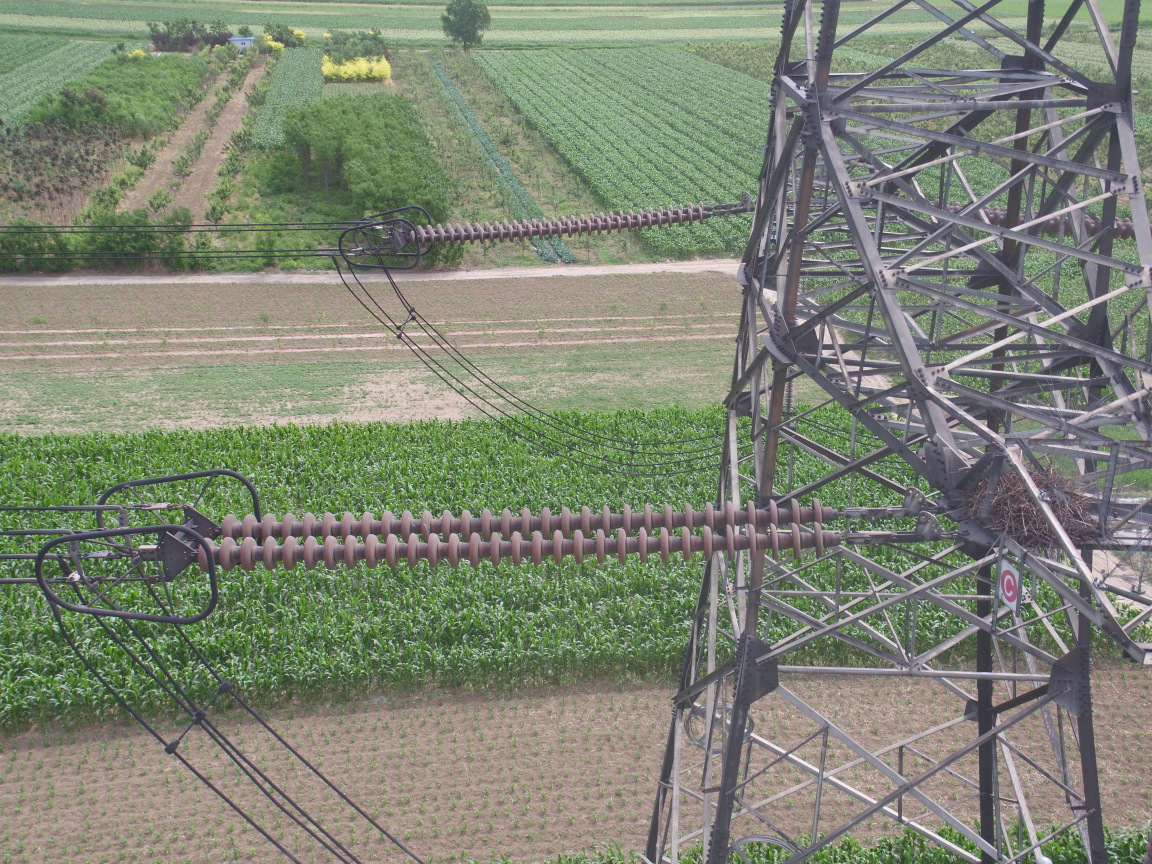insulator: (177, 494, 883, 576), (401, 198, 734, 246)
